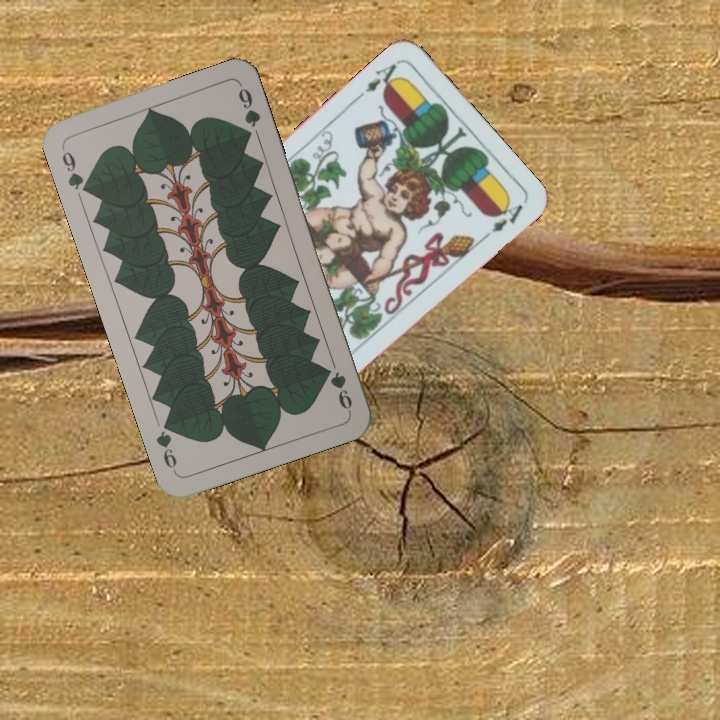EA: (361, 58, 404, 96)
G9: (57, 143, 94, 197), (326, 367, 355, 414)
